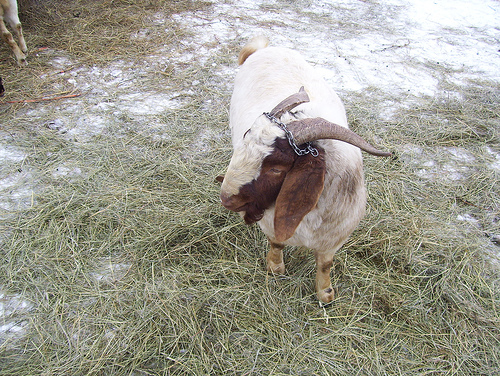goat: (215, 36, 398, 305)
